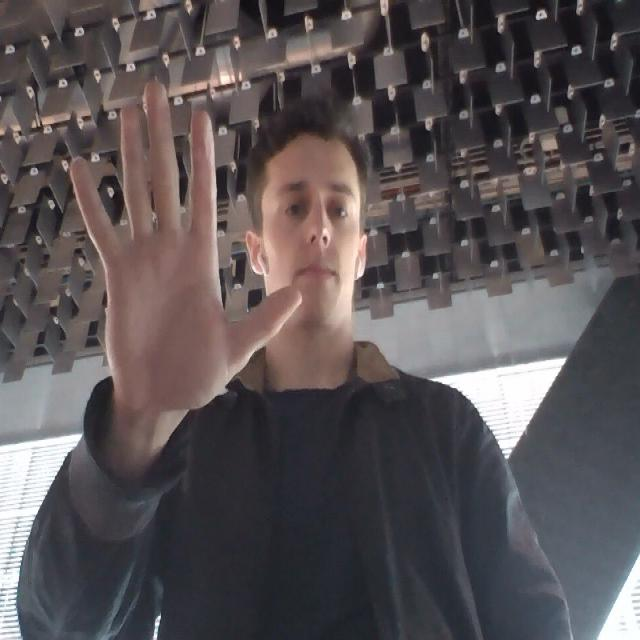backward: (57, 77, 302, 410)
